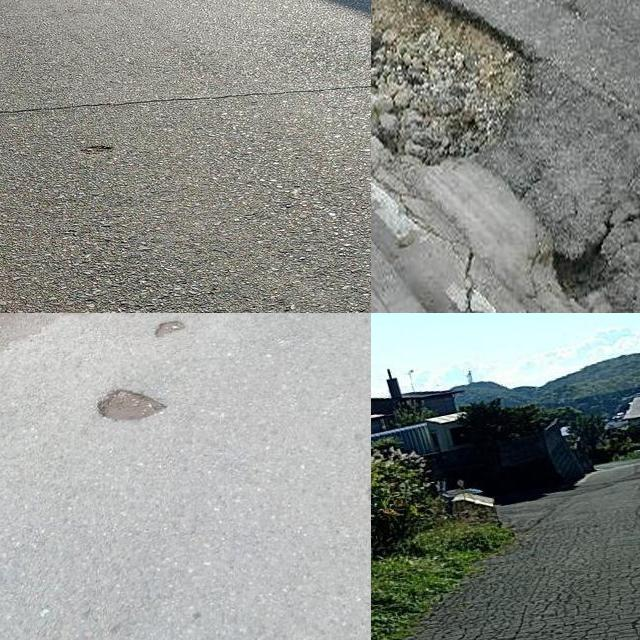Lubang: (371, 0, 529, 156), (550, 239, 619, 299), (98, 385, 165, 421)
Melintang: (0, 72, 371, 124)
Retak Buaya: (387, 516, 640, 640)
